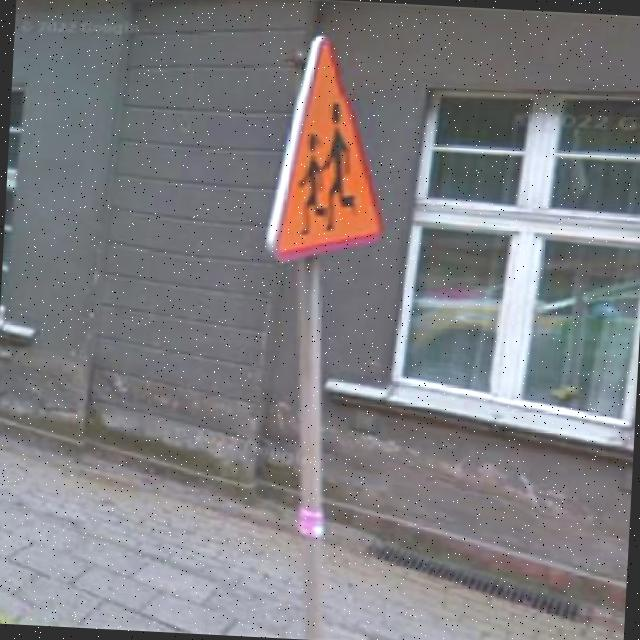Dzieci: (268, 33, 396, 273)
